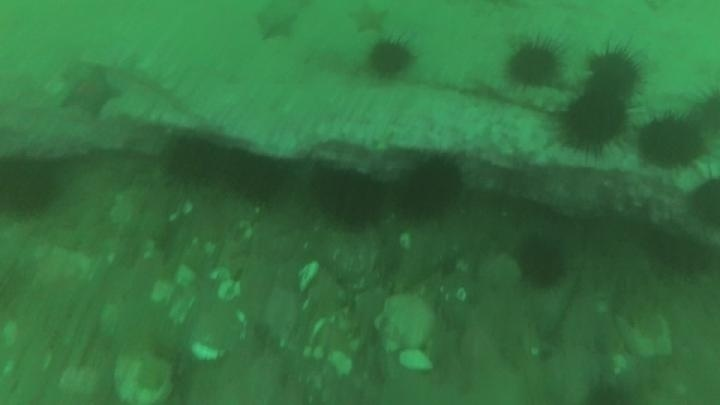echinus: (396, 154, 466, 222), (557, 90, 630, 154), (310, 169, 386, 230), (635, 112, 708, 173), (1, 152, 62, 220), (645, 220, 714, 279), (584, 43, 646, 99), (502, 36, 565, 91), (223, 152, 287, 205), (513, 233, 570, 290), (162, 136, 223, 188), (365, 35, 417, 81), (686, 174, 720, 230), (685, 85, 720, 137), (582, 377, 634, 405)
holothurian: (500, 83, 574, 117)
starfish: (58, 67, 123, 119), (253, 4, 303, 44), (346, 4, 392, 36)
